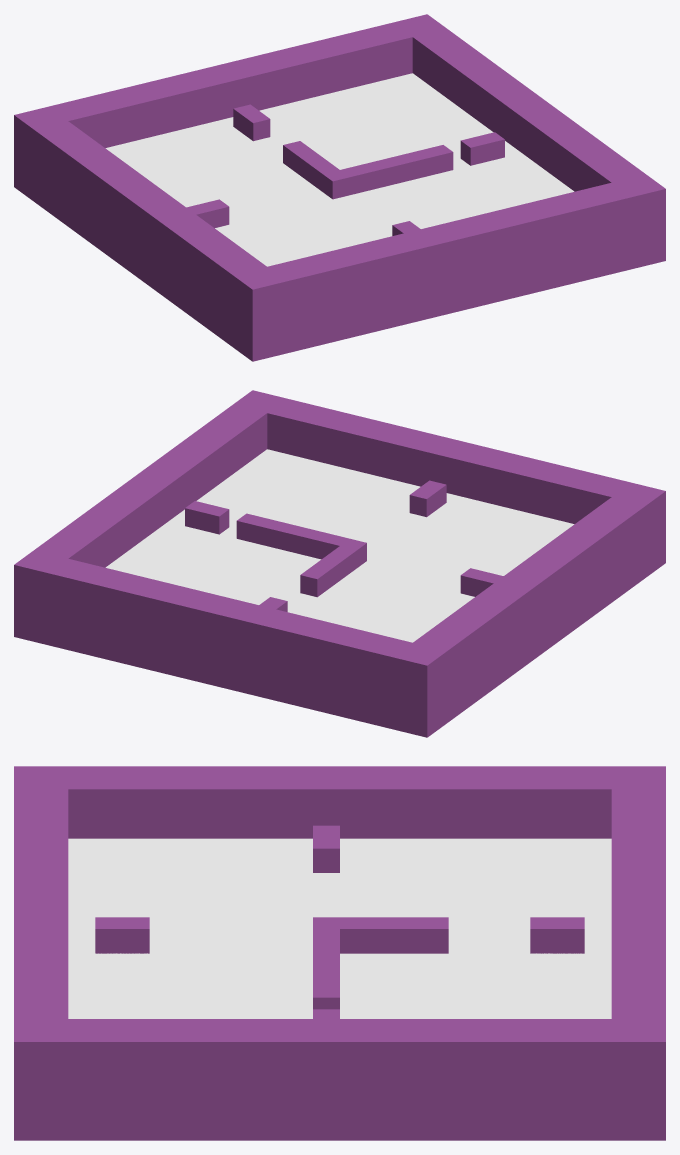
The model's file is Clock.fbx.
3 renders of one model, top to bottom at view 1: azimuth 30°, elevation 25°; view 2: azimuth 150°, elevation 25°; view 3: azimuth 270°, elevation 25°, orthographic. The views are drawn at different scales.
Visible parts, largest first — view 1: default; view 2: default; view 3: default.
Boxes of the visible parts, <box> form: default: <box>14,14,665,361</box>; default: <box>14,390,665,737</box>; default: <box>14,766,665,1140</box>.
Bounding box in the file's own units: 24 × 4 × 24.
